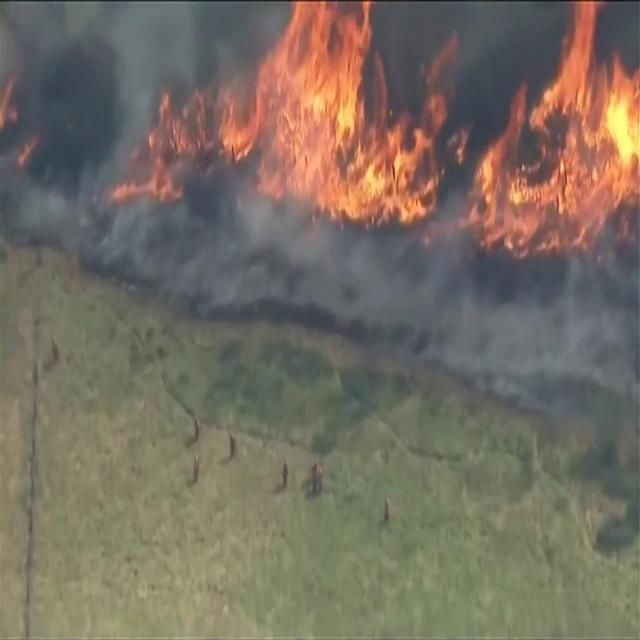Fire: (110, 5, 452, 206), (481, 14, 633, 252)
